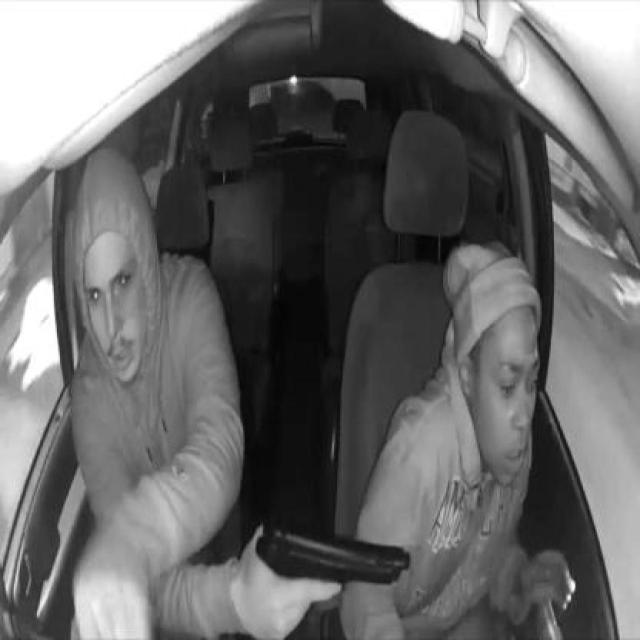weapon: (254, 515, 412, 626)
